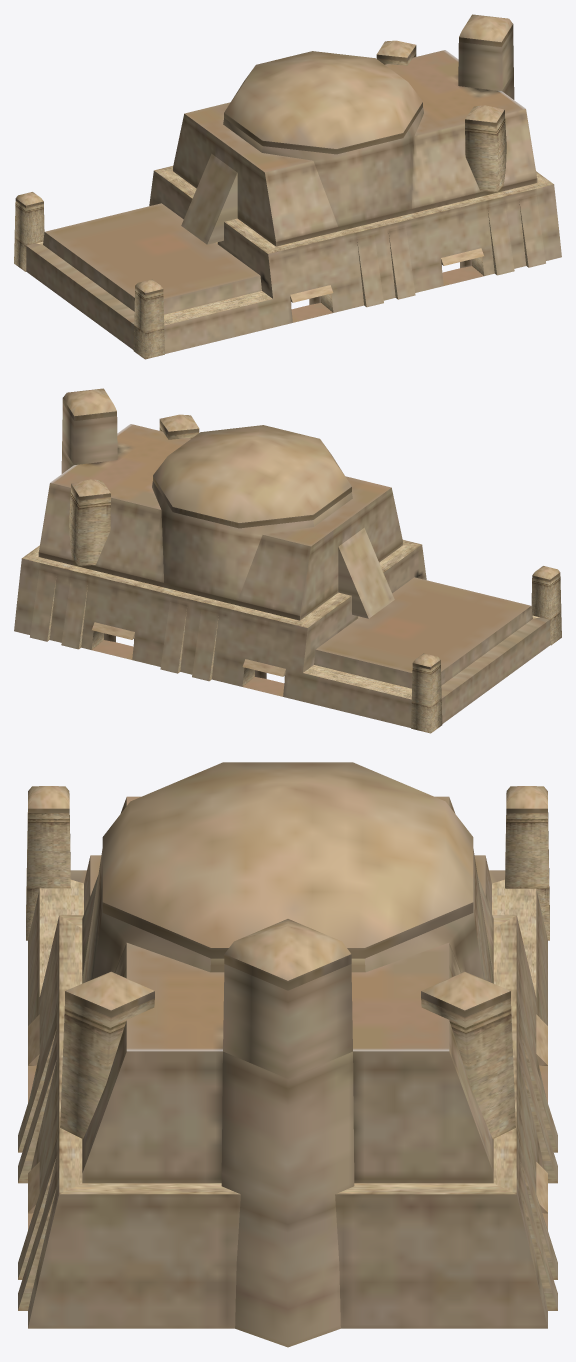
The model's file is mun_tato_hospital_s01_r0_mesh_l3.fbx.
3 views of the same model, one above another, from view 1: azimuth 30°, elevation 25°; view 2: azimuth 150°, elevation 25°; view 3: azimuth 270°, elevation 25° (orthographic). The views are drawn at different scales.
Visible parts, largest first — view 1: mesh_node; view 2: mesh_node; view 3: mesh_node.
Part boxes in pixels (<box>): mesh_node: <box>14,14,561,359</box>; mesh_node: <box>14,388,561,733</box>; mesh_node: <box>18,762,557,1347</box>.
Bounding box in the file's own units: 96.98 × 41.44 × 51.94.
1 material, 1 textured.
